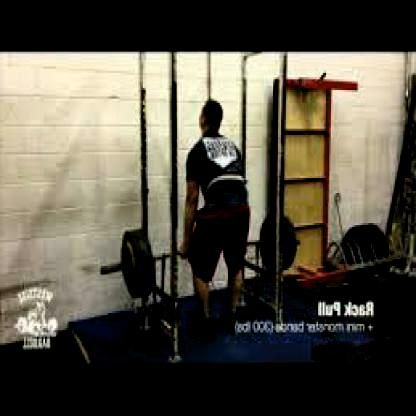Barbell: (96, 260, 107, 280)
